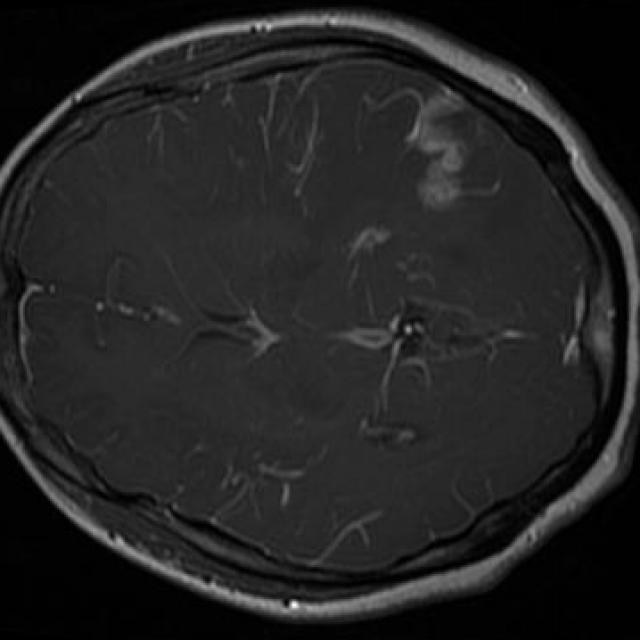glioma: (405, 93, 478, 212)
